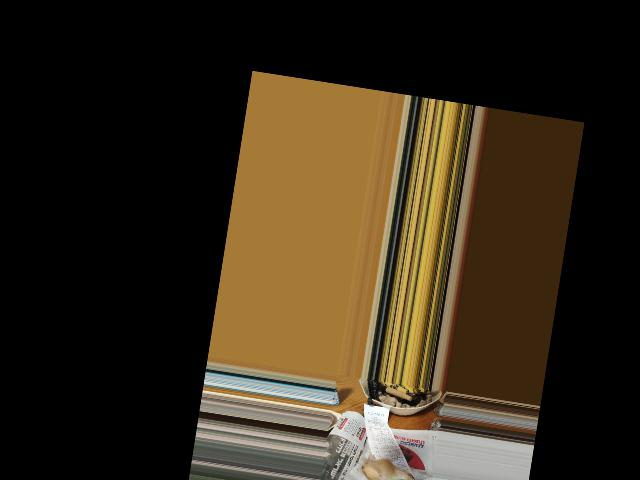onion: (356, 454, 405, 480)
